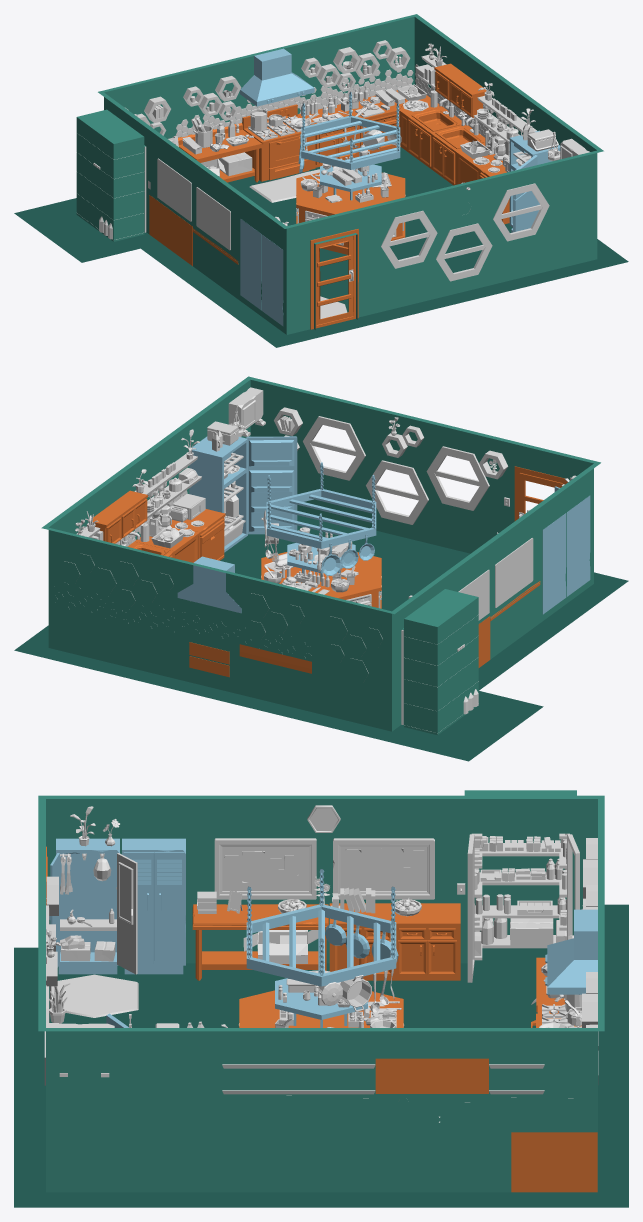
Rendered from Kitchen_Raw-transformed.glb.
3 views of the same model, one above another, from view 1: azimuth 30°, elevation 25°; view 2: azimuth 150°, elevation 25°; view 3: azimuth 270°, elevation 25° (orthographic). The views are drawn at different scales.
Visible parts, largest first — view 1: room_BASE_no_backside_comb_window, ground, polySurface352, comb_selves2_main_table160, polySurface921, polySurface1901, polySurface387, main_table17, polySurface715, polySurface740, polySurface761, polySurface951 (+16 smaller); view 2: room_BASE_no_backside_comb_window, ground, polySurface352, polySurface1901, polySurface1880, polySurface1879, polySurface1805, polySurface1801, main_table17, polySurface740, polySurface919, polySurface1813 (+12 smaller); view 3: room_BASE_no_backside_comb_window, ground, polySurface951, polySurface1801, polySurface1901, polySurface906, polySurface1813, polySurface1814, polySurface919, polySurface936, polySurface999, polySurface740 (+24 smaller).
Boxes of the visible parts, x1,y1,x2,y2 form: room_BASE_no_backside_comb_window: (76, 14, 603, 334); ground: (14, 147, 628, 347); polySurface352: (381, 183, 549, 281); comb_selves2_main_table160: (125, 40, 410, 135); polySurface921: (407, 107, 485, 185); polySurface1901: (301, 115, 400, 169); polySurface387: (310, 229, 358, 329); main_table17: (296, 172, 405, 254); polySurface715: (242, 104, 315, 181); polySurface740: (240, 48, 314, 106); polySurface761: (297, 90, 405, 167); polySurface951: (149, 195, 192, 266); room_BASE_no_backside_comb_window: (41, 376, 600, 735); ground: (14, 515, 628, 761); polySurface352: (303, 416, 489, 524); polySurface1901: (266, 489, 376, 548); polySurface1880: (189, 436, 247, 552); polySurface1879: (248, 468, 297, 534); polySurface1805: (542, 513, 566, 614); polySurface1801: (567, 495, 590, 596); main_table17: (261, 552, 381, 608); polySurface740: (177, 556, 241, 613); polySurface919: (92, 490, 147, 543); polySurface1813: (495, 538, 533, 607); room_BASE_no_backside_comb_window: (38, 790, 604, 1192); ground: (14, 904, 628, 1207); polySurface951: (329, 903, 460, 980); polySurface1801: (56, 838, 119, 974); polySurface1901: (246, 904, 396, 986); polySurface906: (511, 1132, 597, 1192); polySurface1813: (214, 838, 316, 899); polySurface1814: (333, 838, 434, 899); polySurface919: (375, 1058, 488, 1093); polySurface936: (192, 904, 328, 980); polySurface999: (154, 852, 184, 963); polySurface740: (545, 909, 597, 994).
Bounding box in the file's own units: 10.29 × 2.79 × 8.82.
